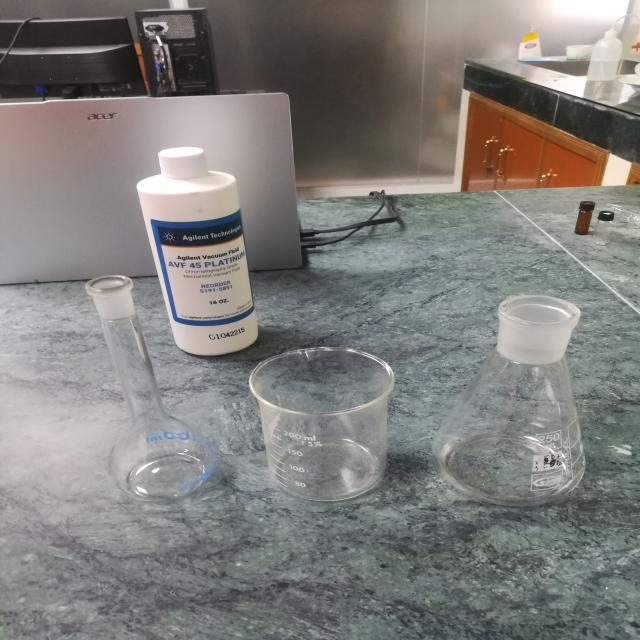Beaker: (237, 336, 423, 514)
Conical_Flask: (420, 279, 624, 515)
Volumetric_Flask: (56, 257, 225, 510)
